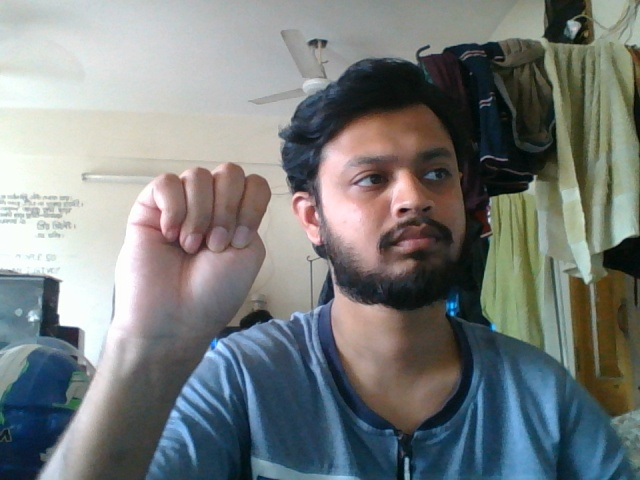to: (121, 157, 283, 373)
